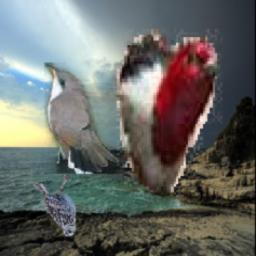Cuckoo: (45, 63, 129, 174)
Sparrow: (32, 169, 77, 237)
Woodpecker: (118, 29, 227, 256)
